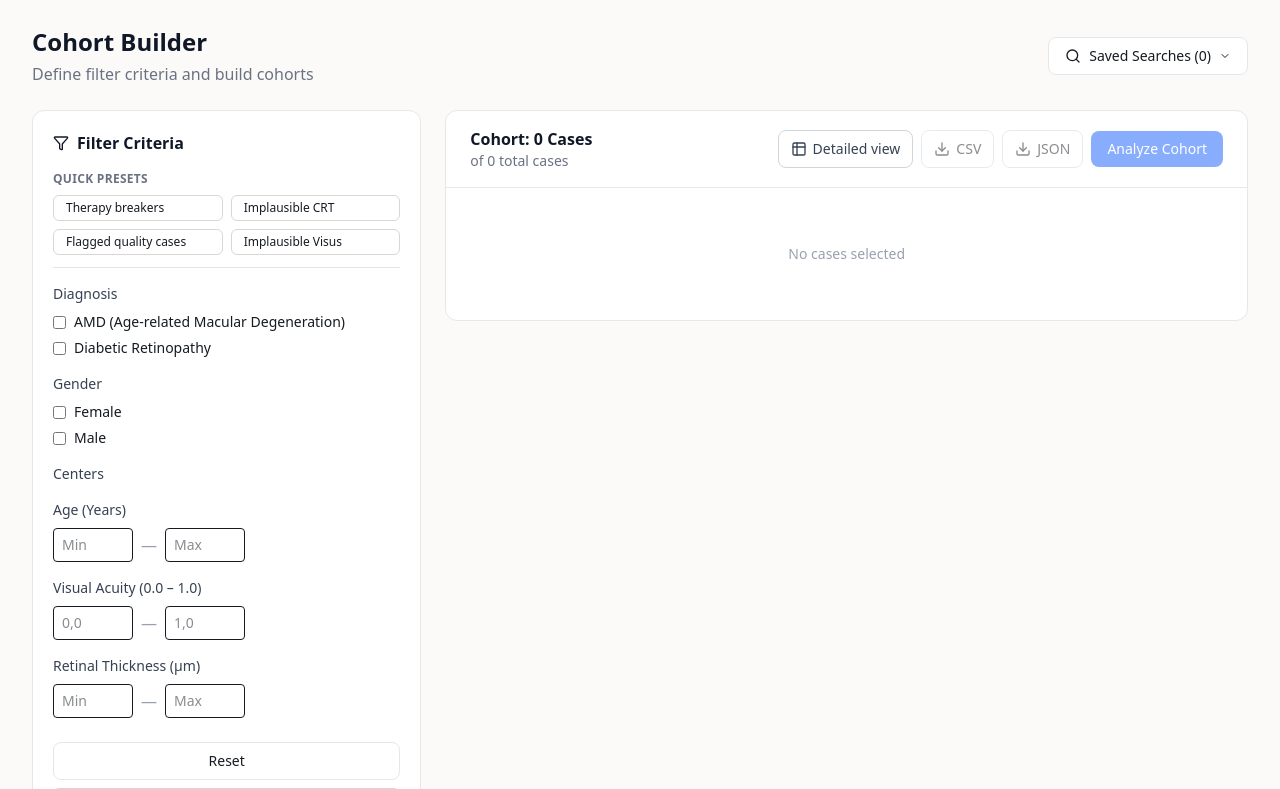
Test: cohortValidation — COH-01 inline validation › visus validation › visus min above visus max shows cohortValidationVisusLowerExceedsUpper and disables Save
Type "0.8" into the field with placeholder "0,0" at (93, 623), box [53,606,133,640]
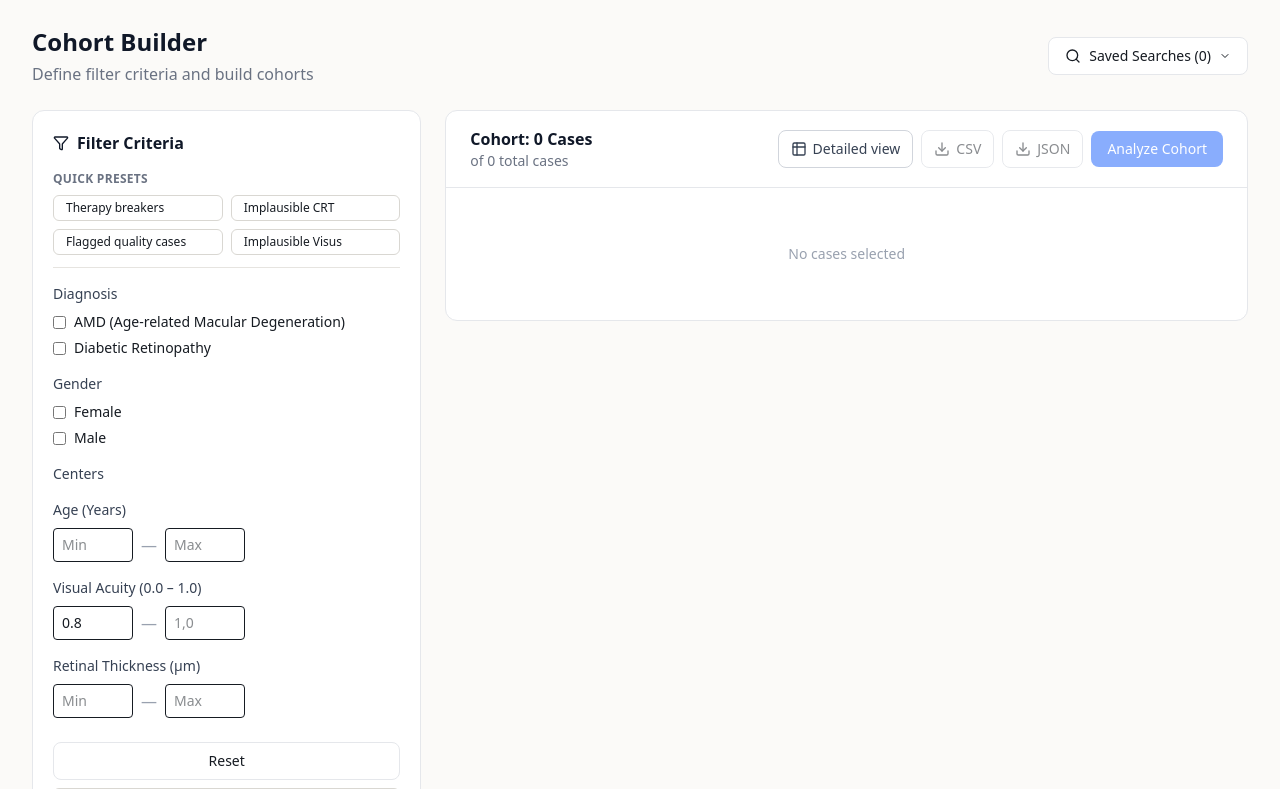
Type "0.3" into the field with placeholder "1,0" at (205, 623), box [165,606,245,640]
(page scrolled)
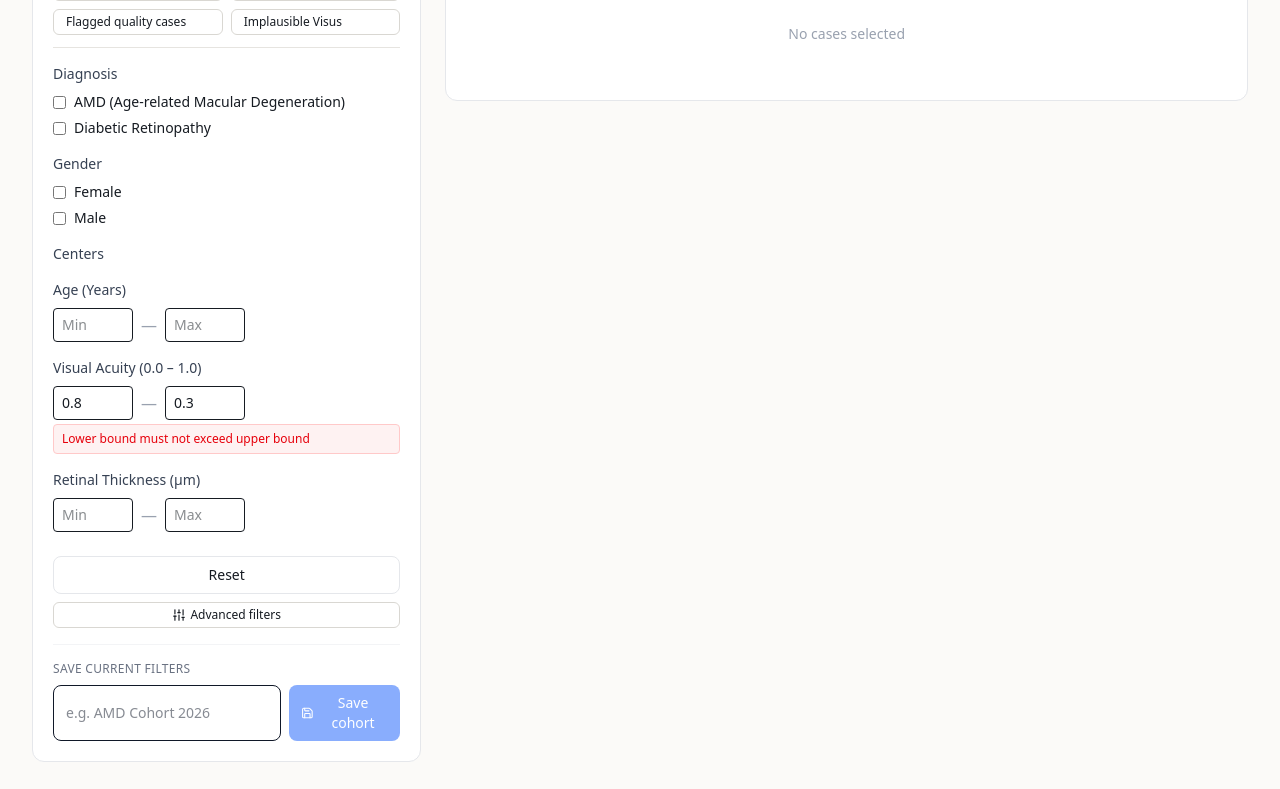
Expected: the button "Save cohort" is disabled, [289,685,400,741]
Now the text "Lower bound must not exceed upper bound" is shown, box [53,424,400,454]
